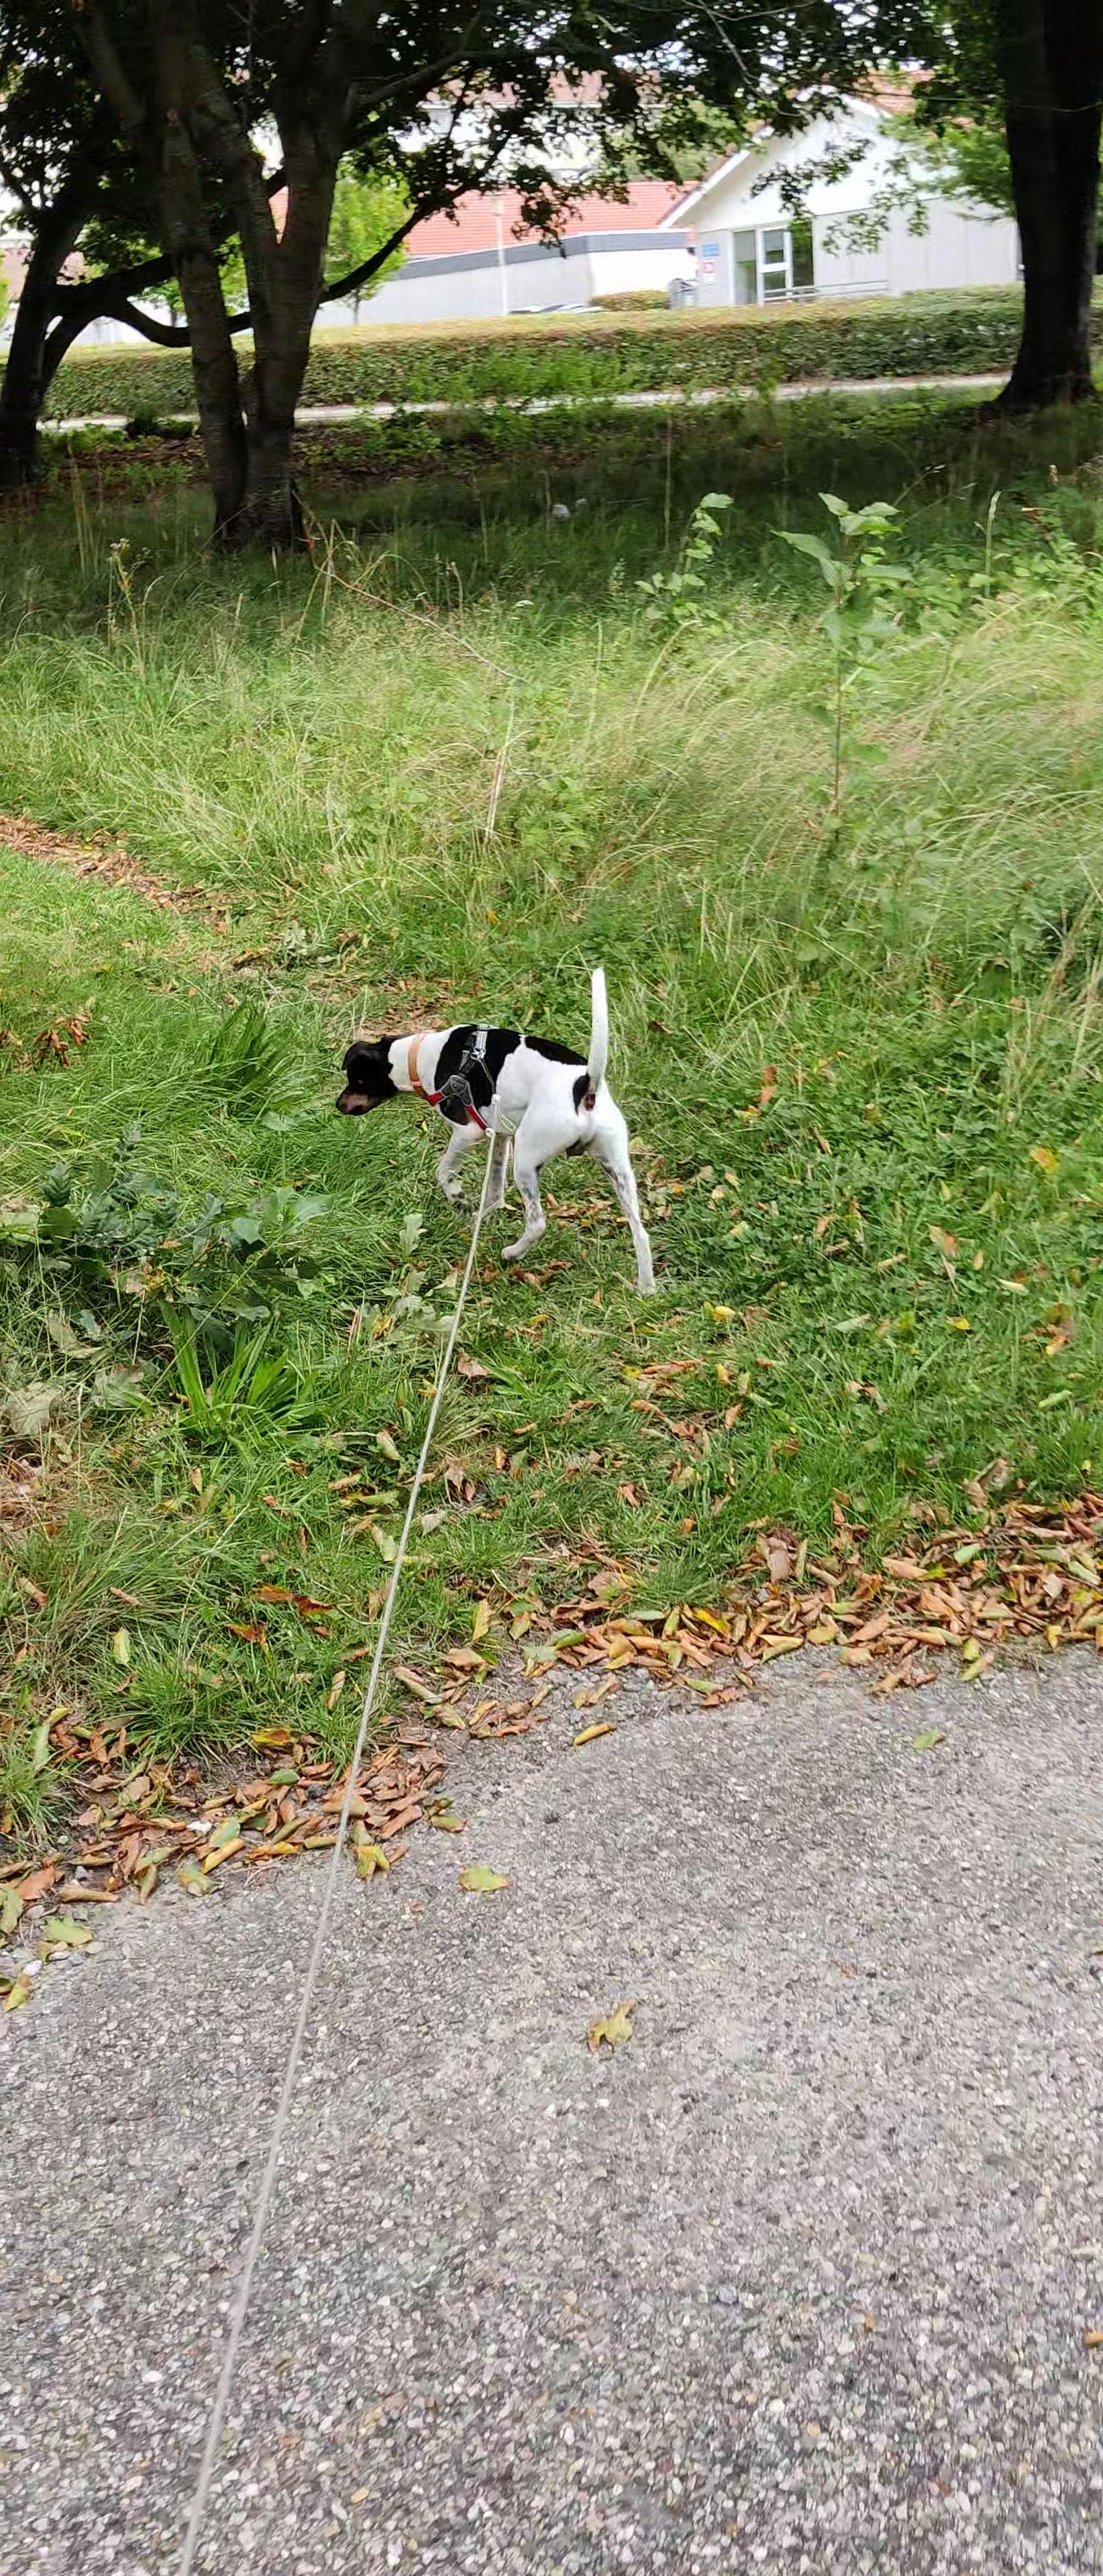Dog: (324, 948, 664, 1303)
